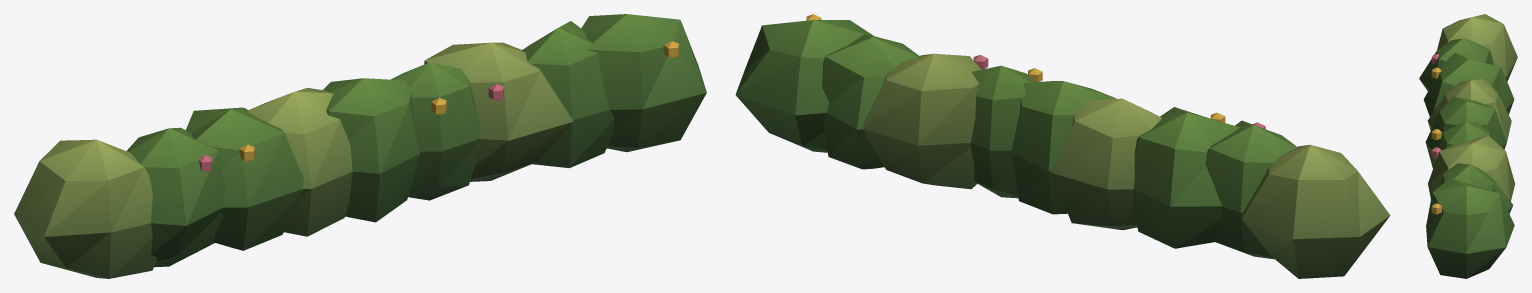
Rendered from scene_hedge_3.glb.
3 views of the same model, side by side, from view 1: azimuth 30°, elevation 25°; view 2: azimuth 150°, elevation 25°; view 3: azimuth 270°, elevation 25° (orthographic). The views are drawn at different scales.
Parts seen in each view (by area): view 1: scene_hedge_3; view 2: scene_hedge_3; view 3: scene_hedge_3.
Part boxes in pixels (left/top/right/bottom): scene_hedge_3: left=14, top=14, right=706, bottom=278; scene_hedge_3: left=735, top=14, right=1390, bottom=278; scene_hedge_3: left=1419, top=14, right=1517, bottom=278.
Size of the model in its own units: 5.63 by 1.12 by 1.1.
